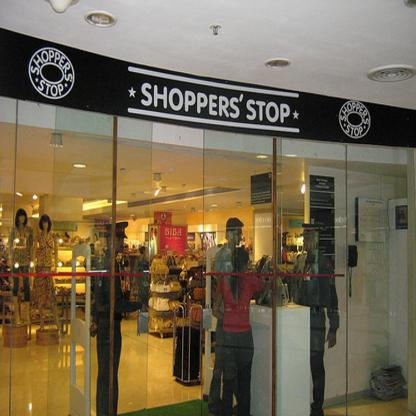face: (113, 231, 125, 252), (304, 230, 316, 251), (232, 227, 243, 246)
